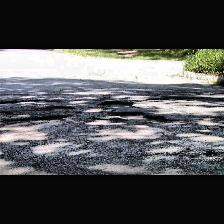pothole: (116, 111, 168, 123), (32, 114, 68, 122), (99, 100, 135, 106)
